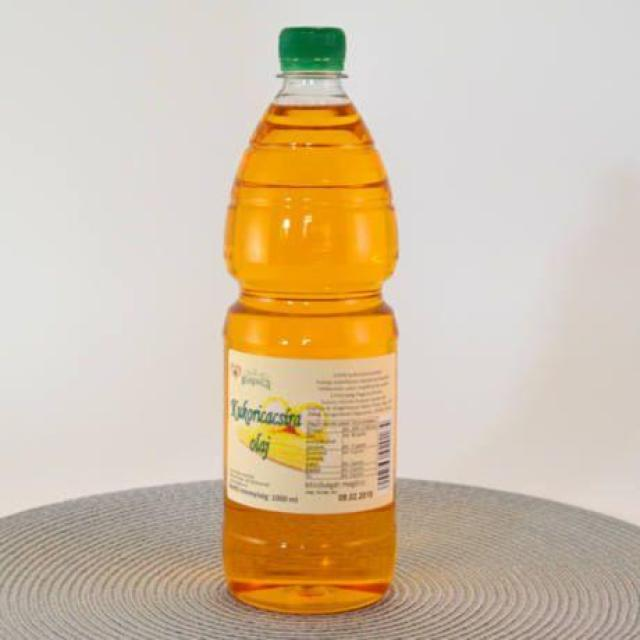inorganic: (220, 28, 399, 618)
